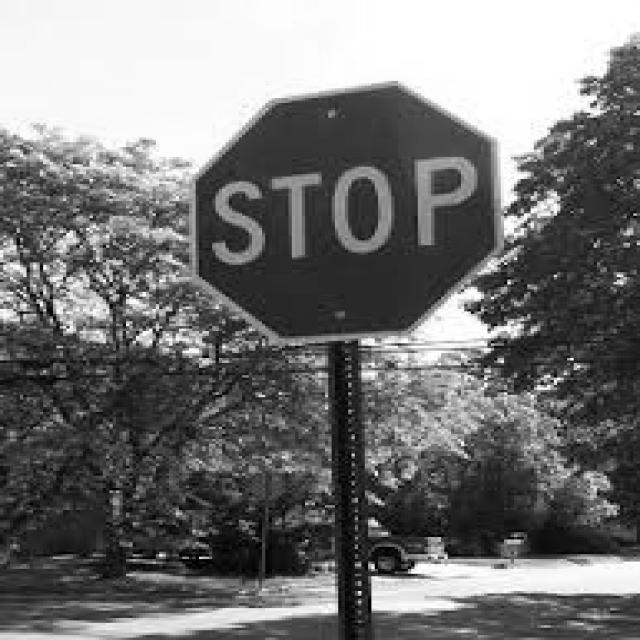stop sign: (186, 82, 500, 340)
